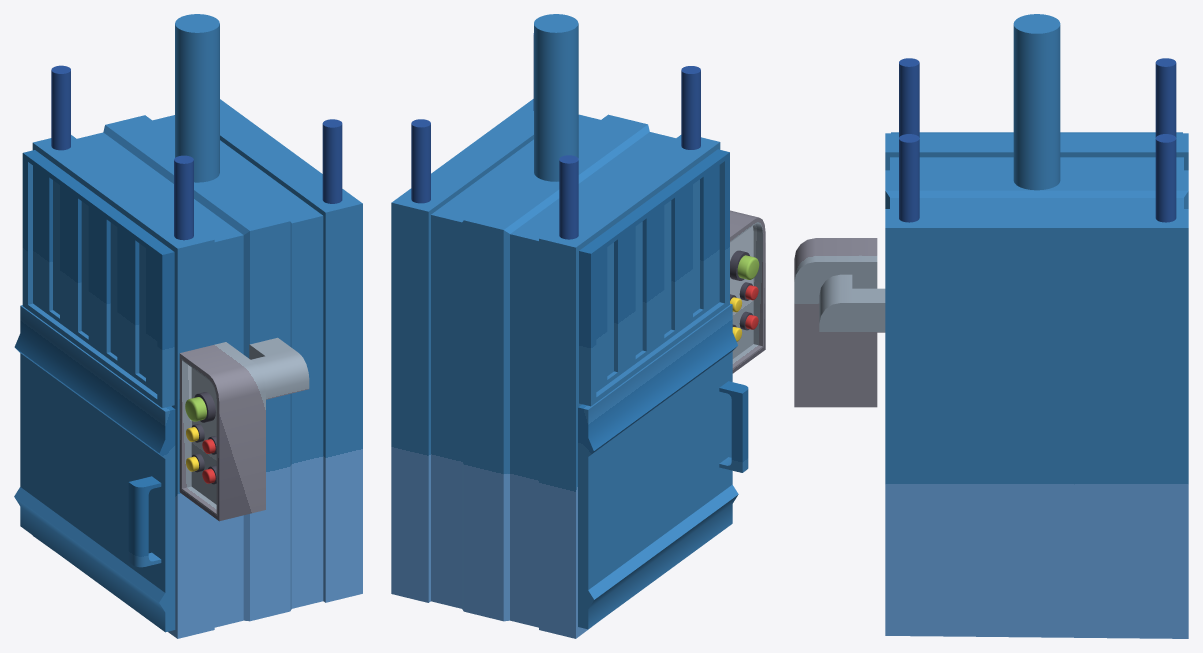
Rendered from maquinaFardo_Az.fbx.
3 renders of one model, left to right at view 1: azimuth 30°, elevation 25°; view 2: azimuth 150°, elevation 25°; view 3: azimuth 270°, elevation 25°, orthographic. The views are drawn at different scales.
Visible parts, largest first — view 1: maquinaFardo_Az, puerta_Az.001, puerta_Az1, aplanadora_Az; view 2: maquinaFardo_Az, puerta_Az.001, puerta_Az1, aplanadora_Az; view 3: maquinaFardo_Az, aplanadora_Az.
Boxes of the visible parts, x1,y1,x2,y2 form: maquinaFardo_Az: [32, 65, 362, 638]; puerta_Az.001: [14, 305, 175, 632]; puerta_Az1: [22, 150, 174, 408]; aplanadora_Az: [175, 14, 219, 182]; maquinaFardo_Az: [391, 33, 765, 638]; puerta_Az.001: [578, 303, 748, 629]; puerta_Az1: [579, 149, 729, 406]; aplanadora_Az: [534, 14, 578, 181]; maquinaFardo_Az: [794, 58, 1188, 638]; aplanadora_Az: [1013, 14, 1060, 190].
Bounding box in the file's own units: 251 × 589 × 371.
